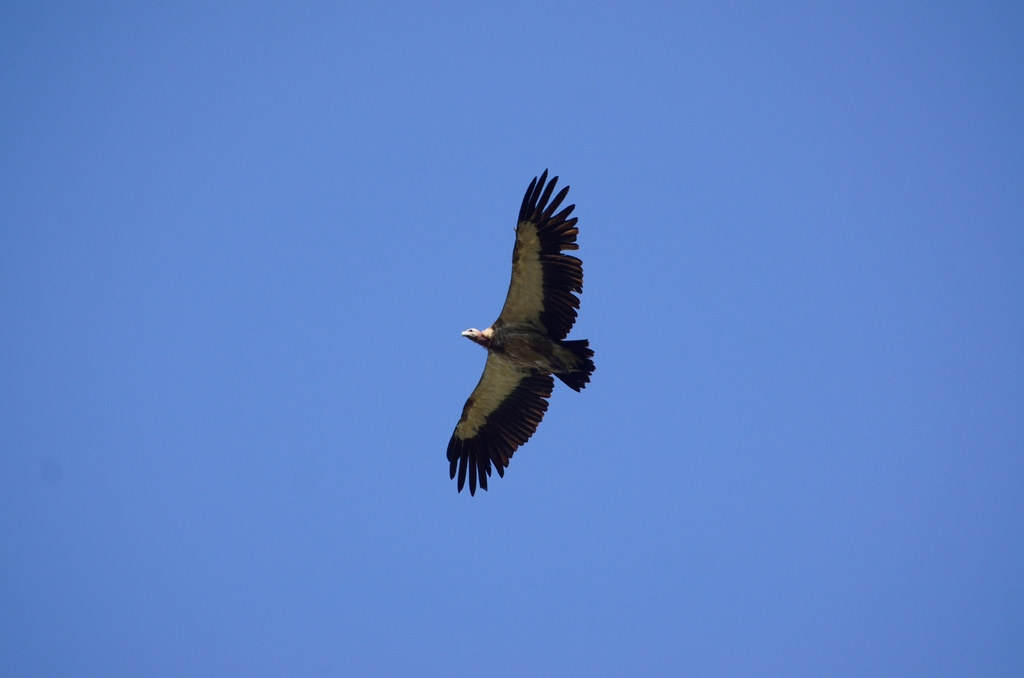person: (460, 169, 599, 376)
